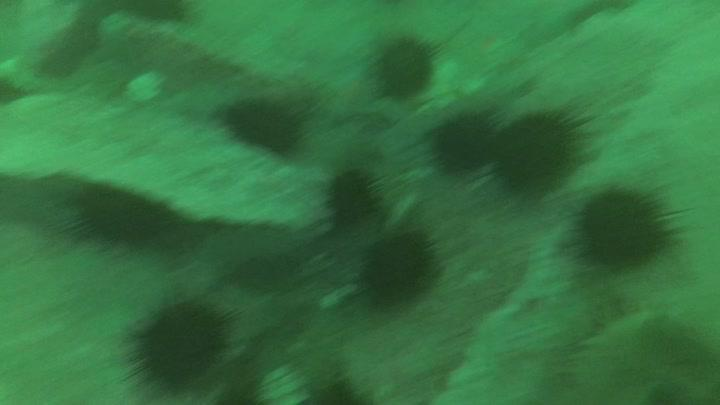urchin: (119, 289, 236, 399), (565, 183, 686, 276), (489, 94, 587, 199), (58, 179, 168, 253), (353, 232, 440, 310), (421, 100, 497, 178), (370, 30, 442, 111), (223, 90, 300, 155), (322, 163, 383, 234)
